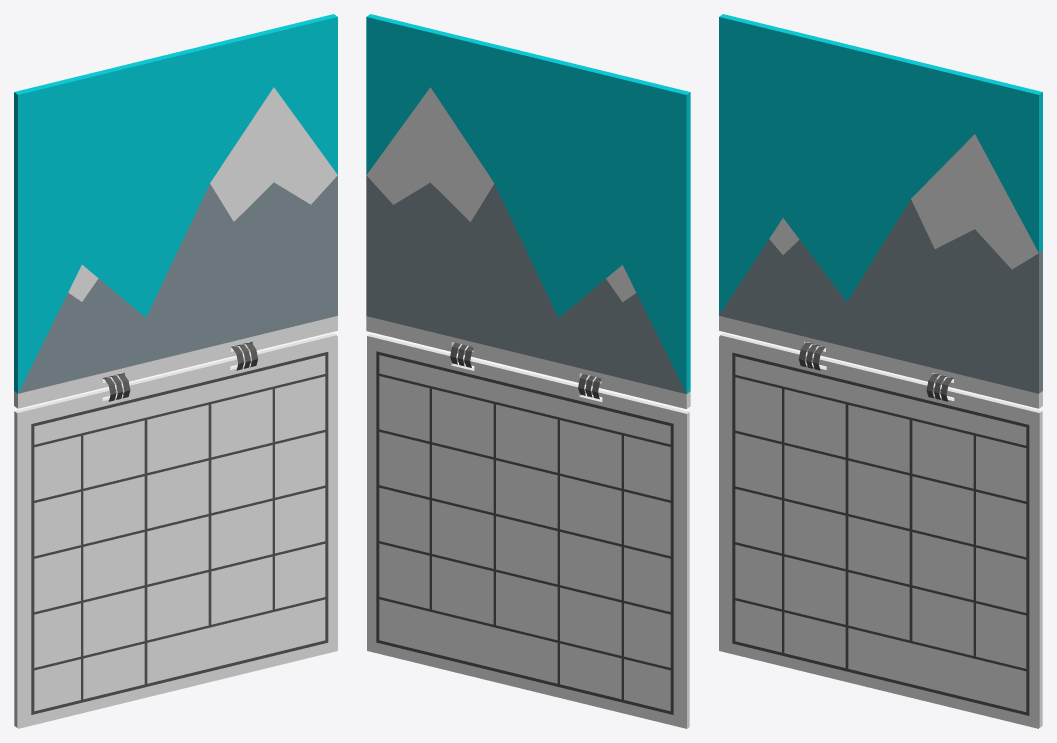
File: Calendar.gltf
3 views of the same model, side by side, from view 1: azimuth 30°, elevation 25°; view 2: azimuth 150°, elevation 25°; view 3: azimuth 330°, elevation 25° (orthographic).
Visible parts, largest first — view 1: Calender_01_Plane.003; view 2: Calender_01_Plane.003; view 3: Calender_01_Plane.003.
Boxes of the visible parts, box(x1,y1,x2,y2) form: Calender_01_Plane.003: box(14, 14, 337, 728); Calender_01_Plane.003: box(366, 14, 690, 728); Calender_01_Plane.003: box(719, 14, 1042, 728).
Size of the model in its own units: 10 by 18.94 by 0.6918.
